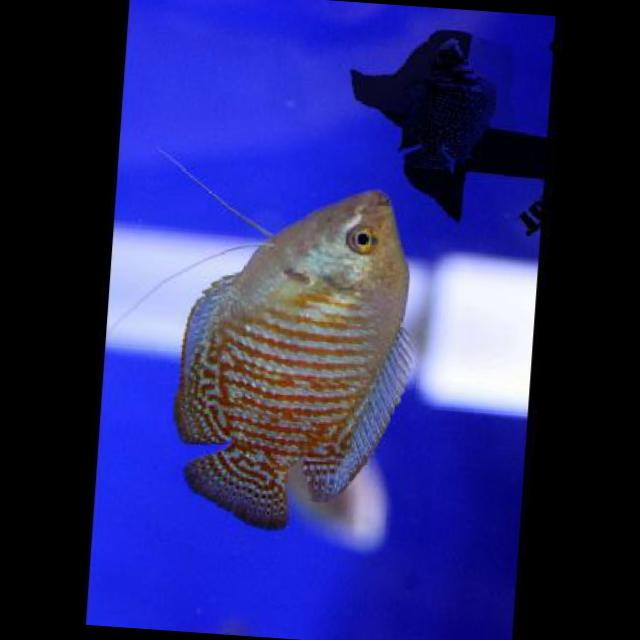Gourami: (170, 180, 428, 538)
